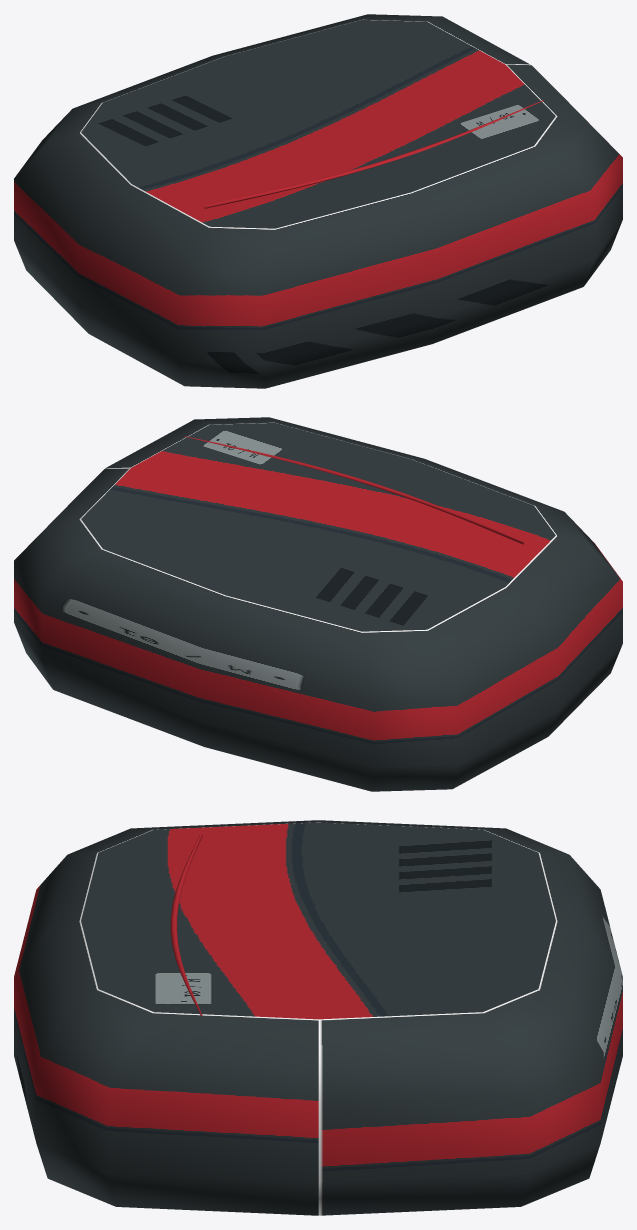
File: MotorCowl_01_N_白艇・一本朱.glb
The picture shows the model from 3 angles, top to bottom: view 1: azimuth 30°, elevation 25°; view 2: azimuth 150°, elevation 25°; view 3: azimuth 270°, elevation 25°; orthographic projection. The views are drawn at different scales.
Parts seen in each view (by area): view 1: MotorCowl_01_N; view 2: MotorCowl_01_N; view 3: MotorCowl_01_N.
Part boxes in pixels (x1=…): MotorCowl_01_N: x1=14, y1=14, x2=622, y2=388; MotorCowl_01_N: x1=14, y1=417, x2=622, y2=791; MotorCowl_01_N: x1=14, y1=820, x2=622, y2=1215.
Size of the model in its own units: 0.332 by 0.1188 by 0.286.
1 material, 1 textured.
